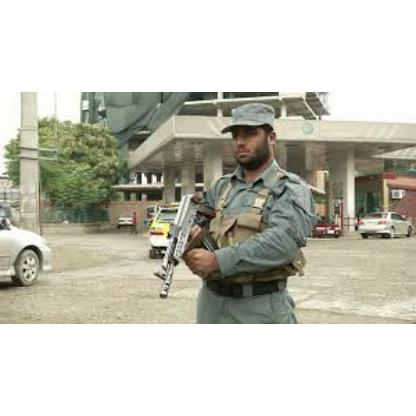gun: (157, 185, 223, 295)
